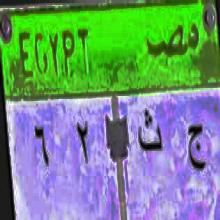2: (72, 114, 100, 176)
6: (32, 115, 52, 178)
jeem: (183, 113, 208, 181)
thaa: (136, 104, 165, 166)
